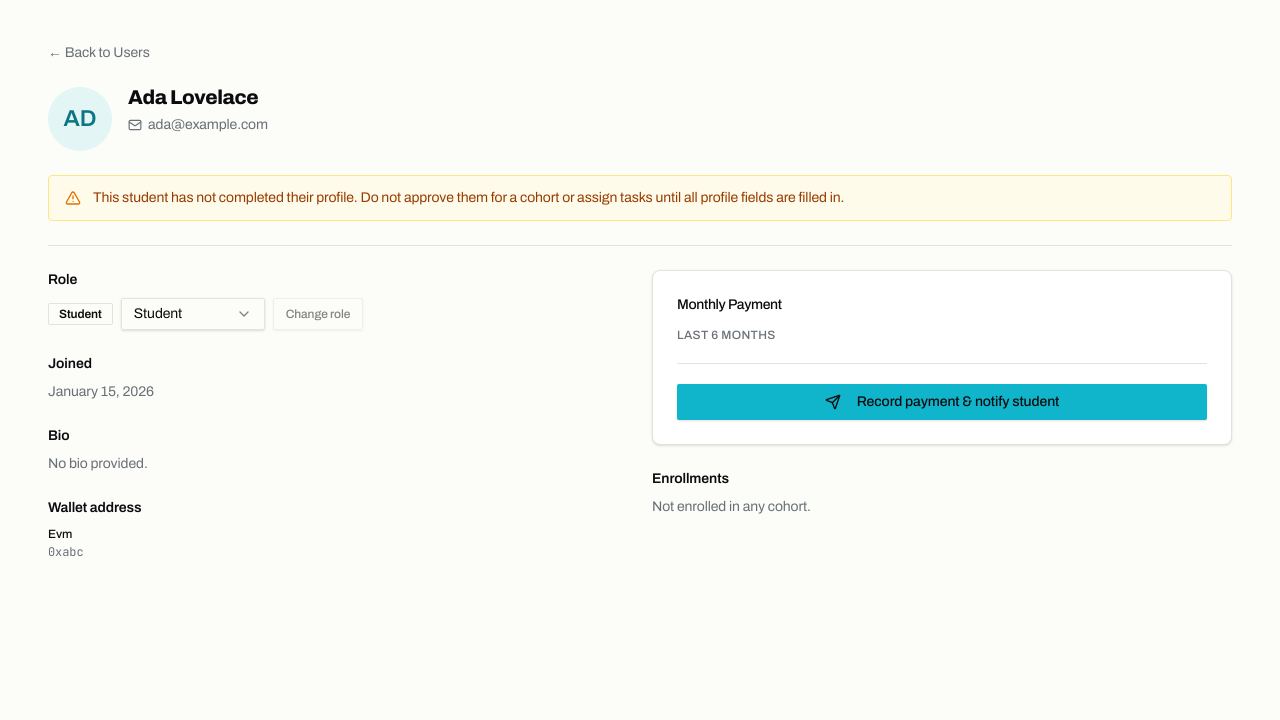
Test: admin user detail page › closes the payment dialog with Esc when nothing is saving
Click the button "Record payment & notify student": x=942, y=402 677,384 -> 1207,420
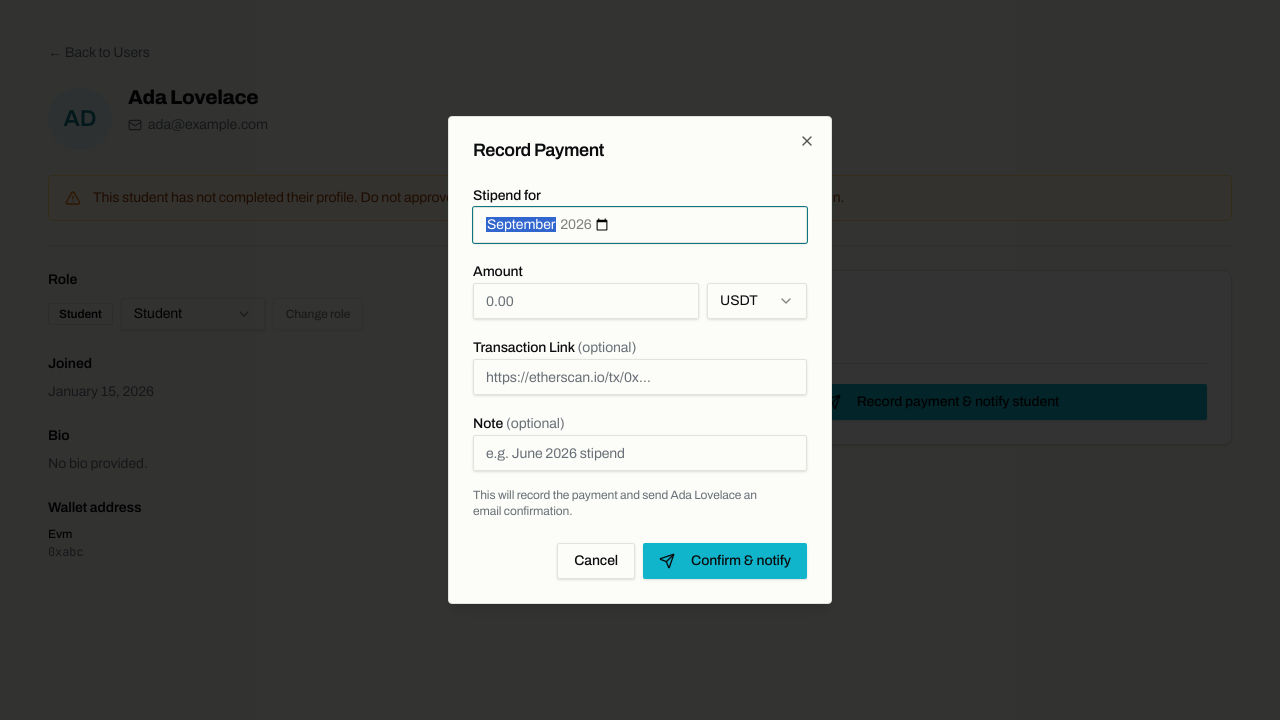
Press Escape
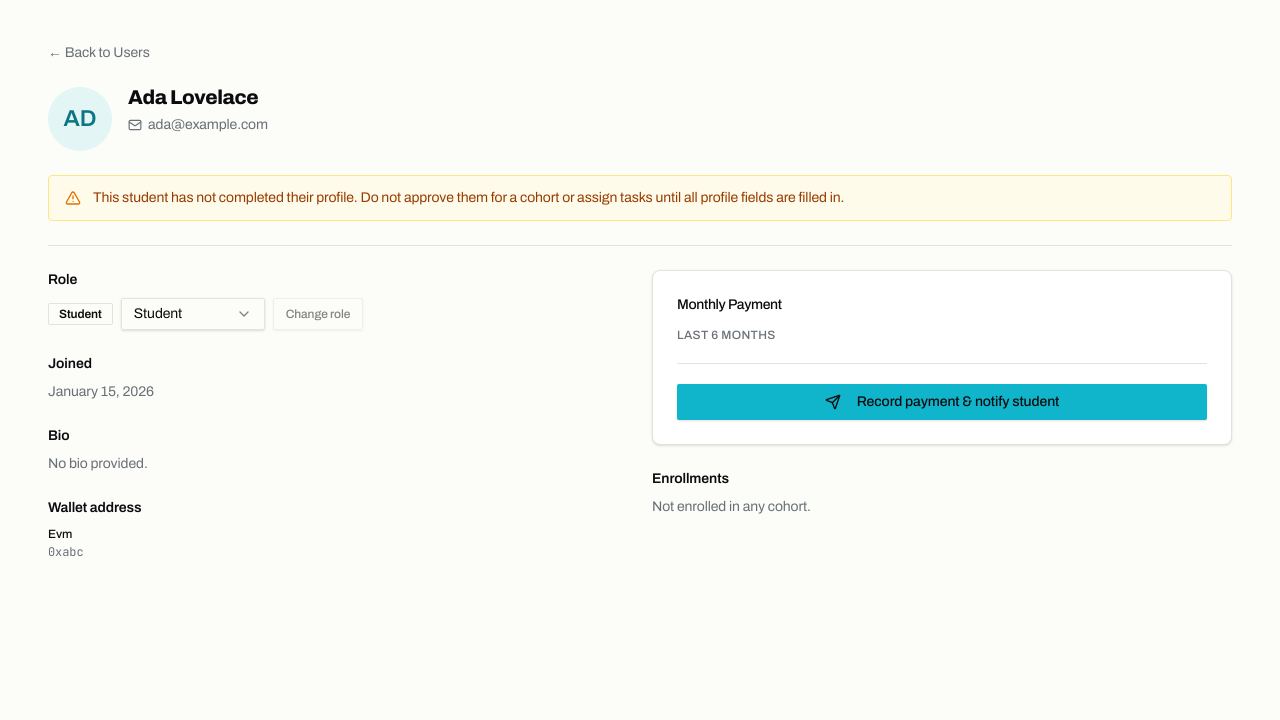
Expected: the dialog is gone
